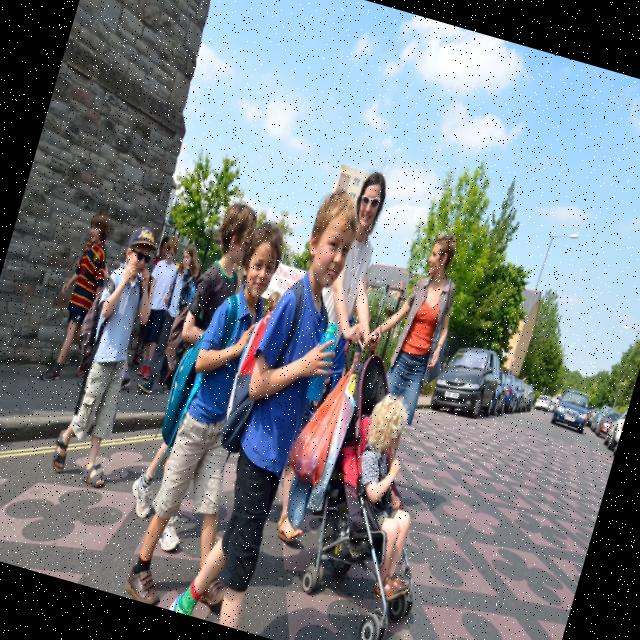Person: (168, 175, 378, 634), (121, 210, 326, 623), (117, 195, 276, 552), (41, 218, 178, 490), (322, 389, 458, 604), (352, 223, 472, 428), (316, 170, 424, 357), (36, 203, 124, 390), (122, 234, 190, 379), (140, 243, 203, 398)
